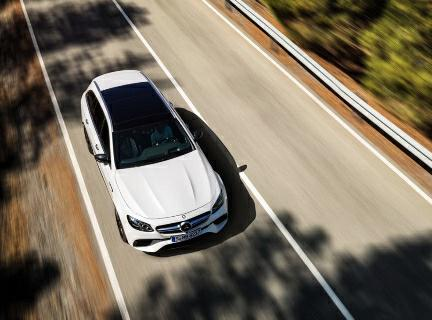大众-速腾: (73, 67, 241, 252)
